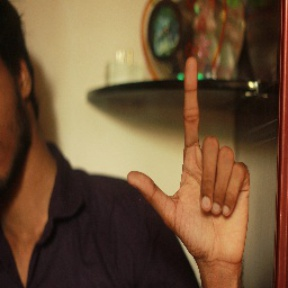L: (123, 54, 253, 259)
